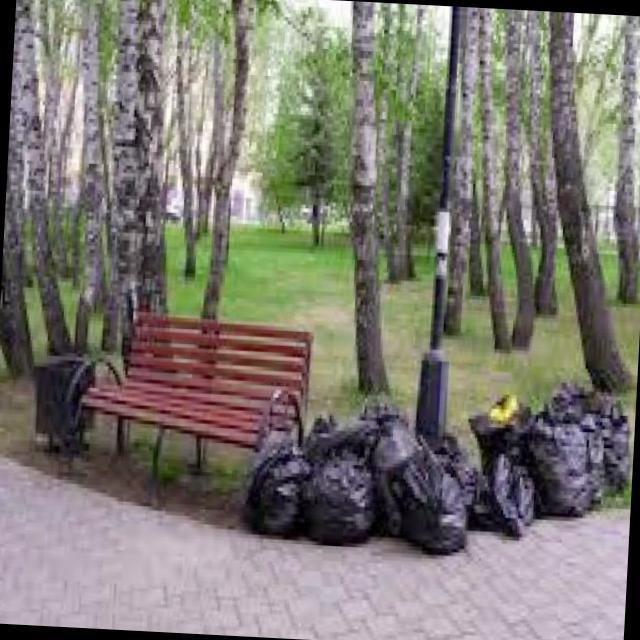garbage: (241, 422, 478, 538), (468, 389, 626, 528)
